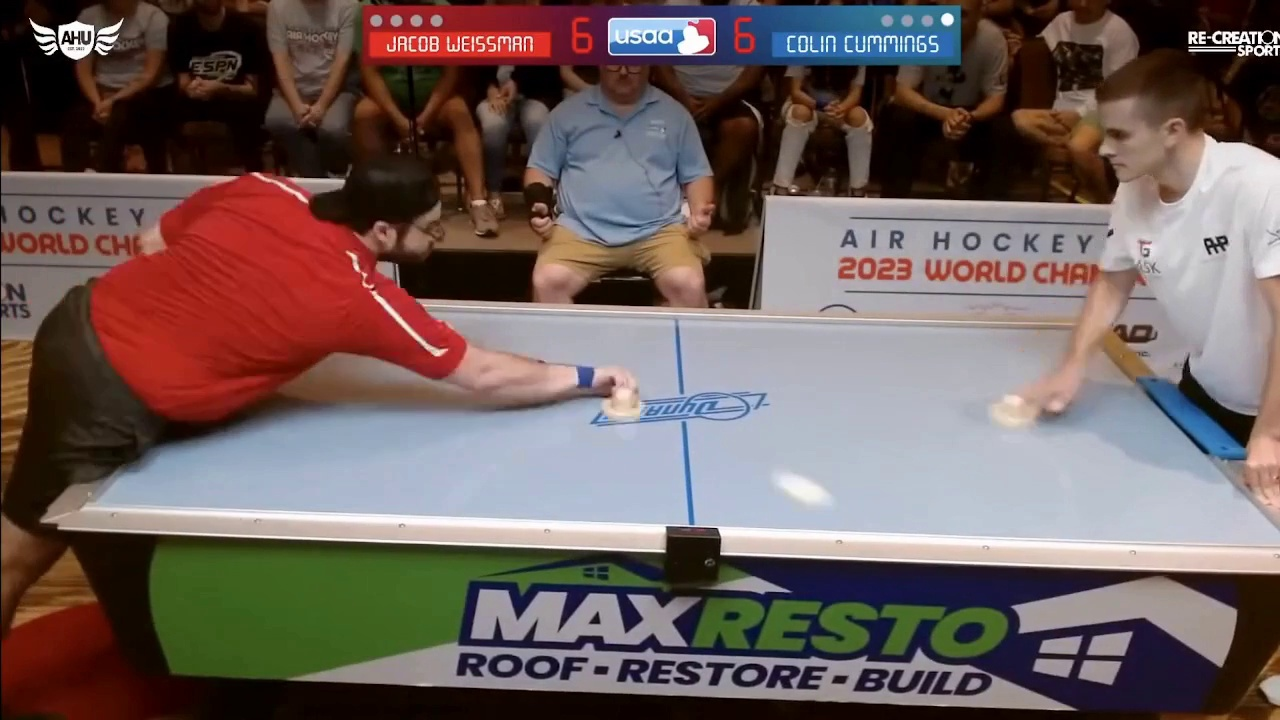player: (597, 380, 654, 423), (988, 393, 1048, 429)
puck: (770, 469, 838, 508)
table: (46, 292, 1280, 556)
